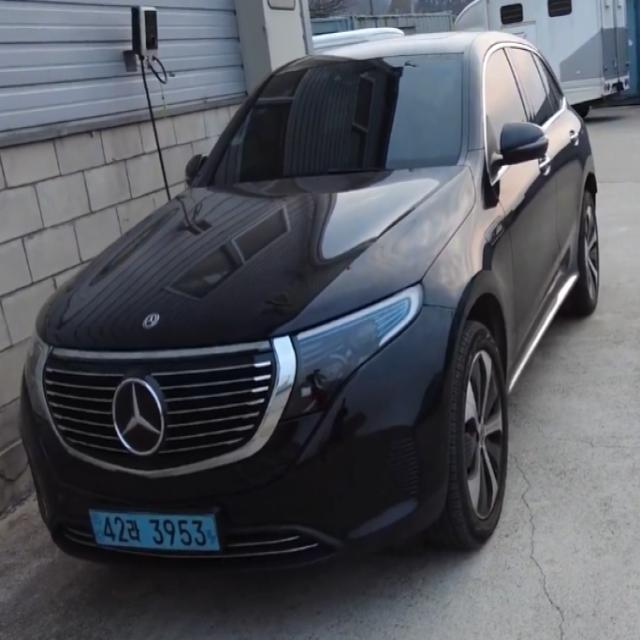car: (66, 494, 265, 571)
carev: (205, 504, 222, 562), (88, 502, 105, 556)
